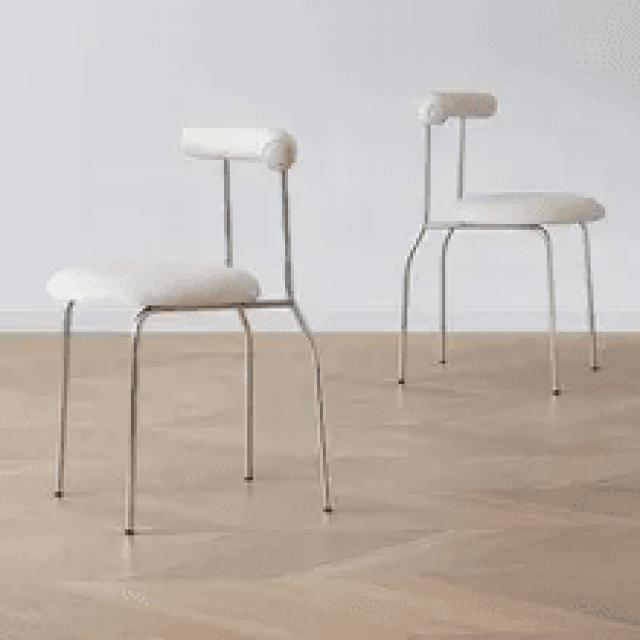chair: (42, 120, 338, 540), (394, 89, 606, 398), (48, 122, 304, 300), (412, 89, 612, 229)
